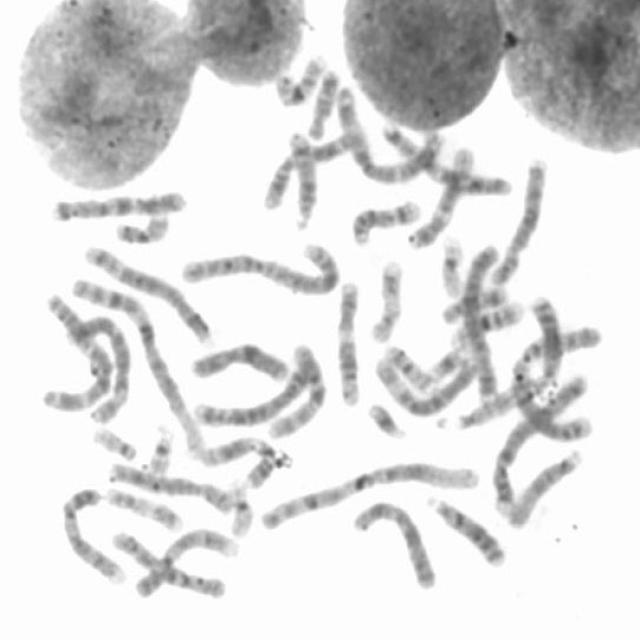A1: (65, 266, 208, 462), (254, 454, 483, 533)
A2: (505, 317, 603, 443), (174, 236, 344, 297)
A3: (331, 80, 447, 186), (37, 288, 117, 416)
B4: (489, 366, 590, 519), (459, 238, 504, 404)
B5: (79, 238, 214, 343), (188, 347, 324, 428)
C10: (107, 524, 230, 601), (264, 338, 329, 440)
C11: (258, 126, 364, 212), (198, 430, 279, 489)
C12: (402, 138, 477, 250), (332, 274, 364, 408)
C6: (52, 307, 134, 427), (369, 350, 483, 418)
C7: (376, 116, 516, 198), (46, 184, 189, 224)
C8: (486, 154, 549, 288), (104, 455, 236, 514)
C9: (128, 523, 238, 599), (56, 481, 129, 586)
D13: (421, 489, 509, 569), (526, 290, 564, 384)
D14: (346, 192, 422, 247), (282, 125, 320, 231)
D15: (502, 443, 586, 530), (448, 371, 550, 432)
E16: (446, 296, 526, 349), (268, 49, 329, 107)
E17: (100, 480, 187, 533), (364, 253, 406, 344)
E18: (437, 280, 508, 324), (302, 64, 341, 141)
F19: (434, 230, 467, 298), (223, 475, 256, 538)
F20: (379, 341, 436, 393), (110, 206, 173, 246)
G21: (362, 396, 409, 442), (422, 341, 470, 383)
G22: (88, 421, 140, 462), (142, 423, 176, 476)
X: (347, 494, 440, 591), (184, 334, 292, 383)
